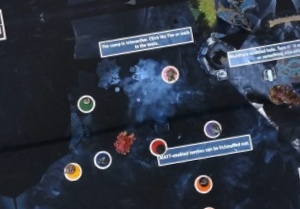blue: (89, 145, 113, 171)
green: (74, 91, 98, 114)
orange: (189, 172, 217, 196)
pink: (156, 61, 183, 86)
red: (143, 133, 171, 160)
violet: (201, 116, 224, 141)
yellow: (59, 157, 83, 183)
